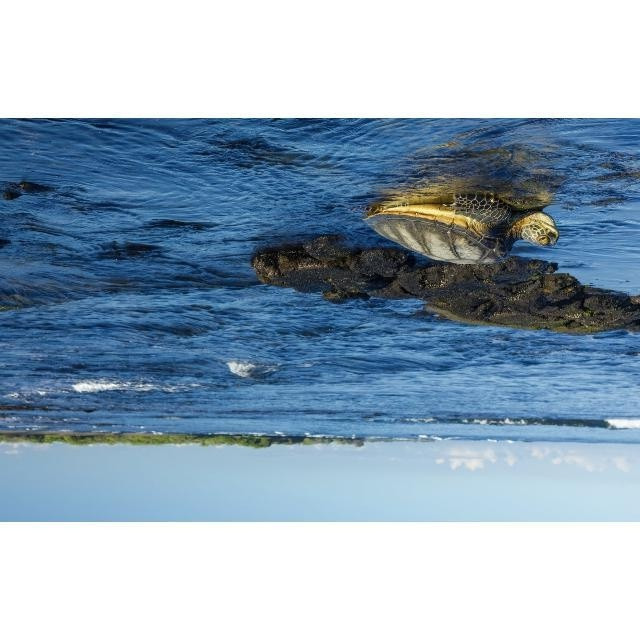turtle: (351, 190, 559, 266)
